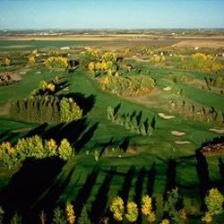neutral: (2, 6, 224, 222)
